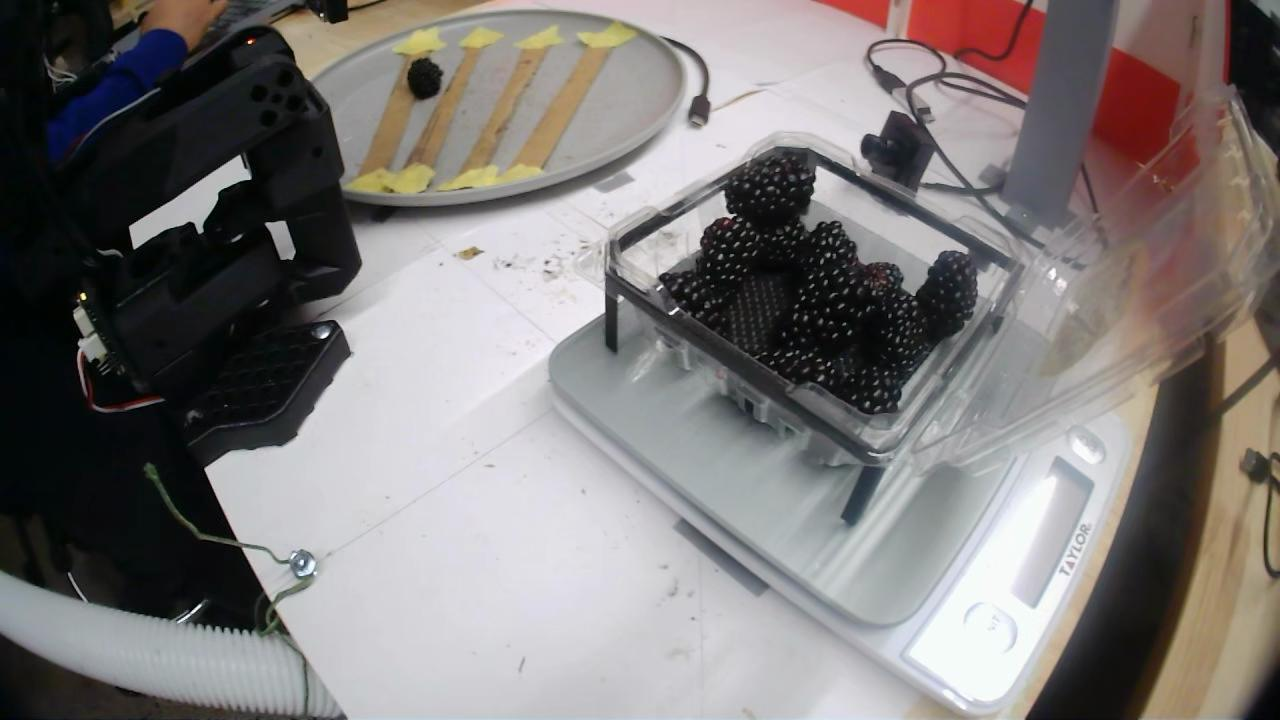berry: (776, 254, 868, 357), (867, 290, 930, 388), (723, 158, 814, 224), (915, 250, 977, 344), (795, 221, 858, 295), (696, 218, 758, 288), (732, 215, 805, 272), (830, 361, 901, 414), (757, 348, 833, 383), (853, 262, 905, 310), (659, 265, 708, 315), (407, 56, 443, 101), (858, 314, 877, 325)
